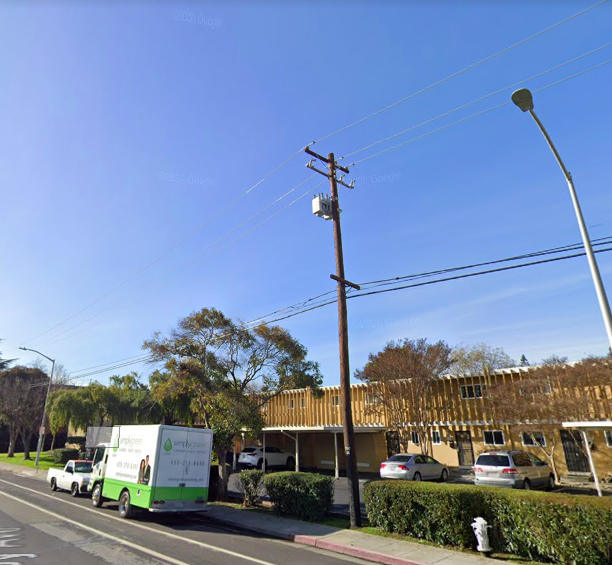utility_pole: (296, 139, 359, 230)
